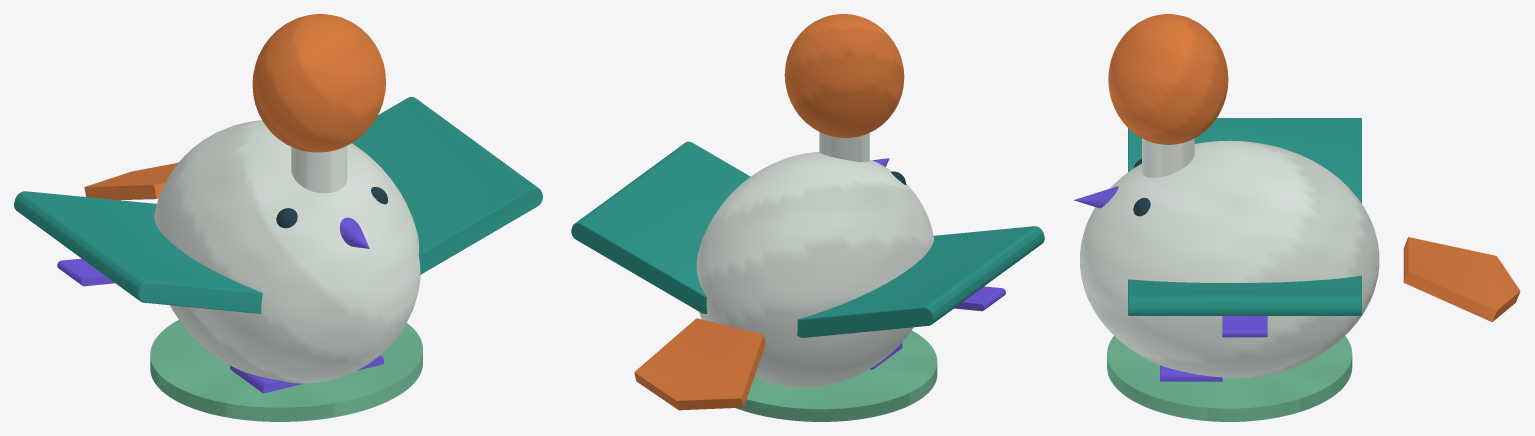
Rendered from 0939_国宝动物图鉴_黑颈鹤.glb.
3 renders of one model, left to right at view 1: azimuth 30°, elevation 25°; view 2: azimuth 150°, elevation 25°; view 3: azimuth 270°, elevation 25°, orthographic. The views are drawn at different scales.
Parts seen in each view (by area): view 1: card_0939; view 2: card_0939; view 3: card_0939.
Part boxes in pixels (x1,y1,x2,y2): card_0939: (14, 14, 542, 421); card_0939: (571, 14, 1044, 421); card_0939: (1074, 14, 1520, 421).
Size of the model in its own units: 1.18 by 1 by 1.16.
